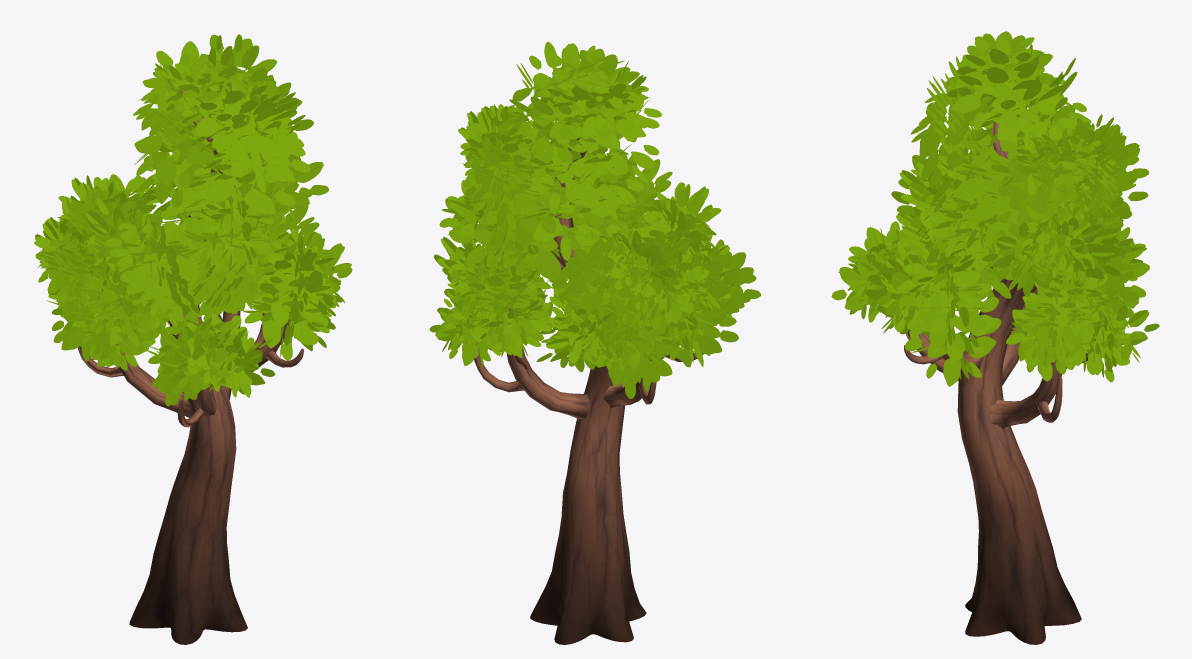
File: CommonTree_2.glb
The picture shows the model from 3 angles, left to right: view 1: azimuth 30°, elevation 25°; view 2: azimuth 150°, elevation 25°; view 3: azimuth 270°, elevation 25°; orthographic projection. The views are drawn at different scales.
Size of the model in its own units: 4.46 by 7.64 by 4.28.
2 materials, 2 textured.
